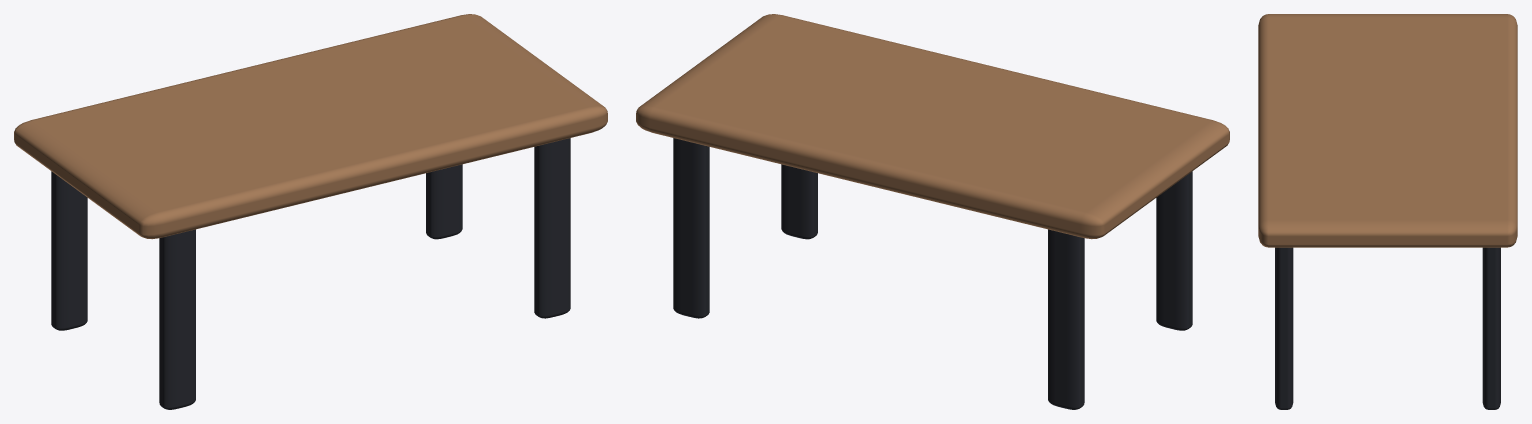
The model's file is dining-table.glb.
3 views of the same model, side by side, from view 1: azimuth 30°, elevation 25°; view 2: azimuth 150°, elevation 25°; view 3: azimuth 270°, elevation 25° (orthographic). The views are drawn at different scales.
Size of the model in its own units: 1.8 by 0.76 by 0.9.
